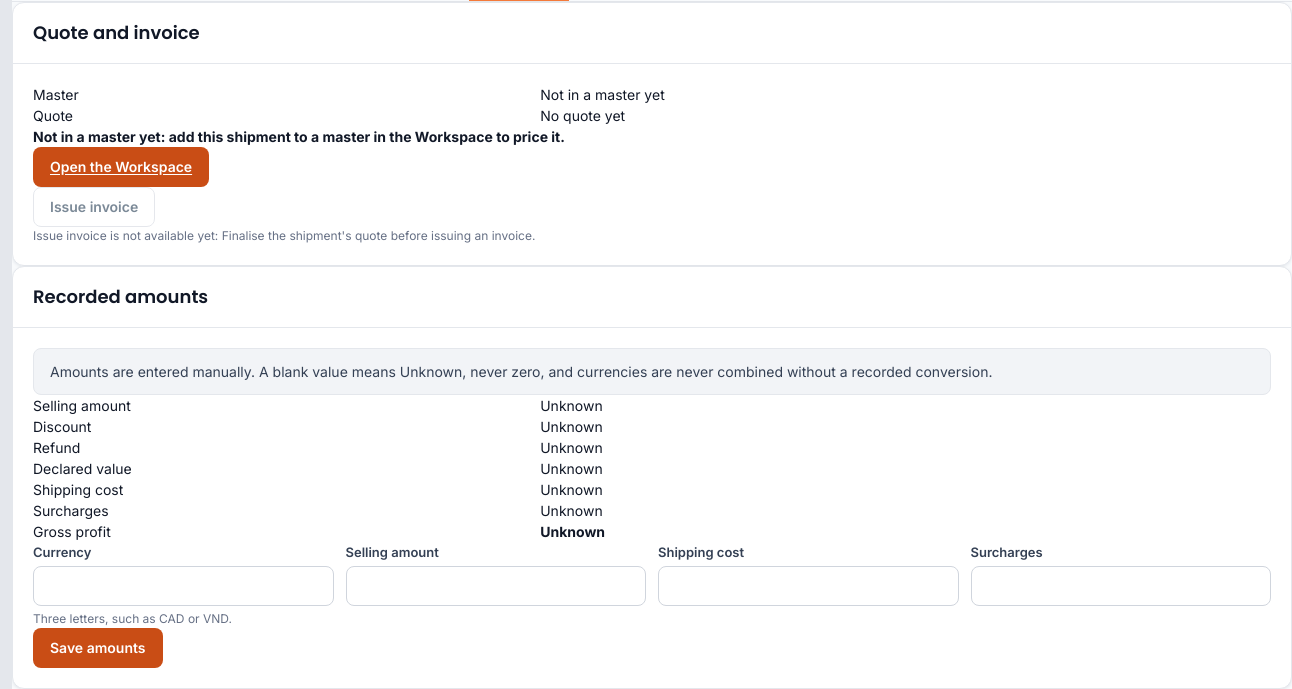
Test: the recorded currency (the root cause) › refuses a two-letter code before saving
(page scrolled)
Step 1. Type "ca" into the field labelled "Currency" → (183, 586), box x1=33 y1=566 x2=334 y2=606
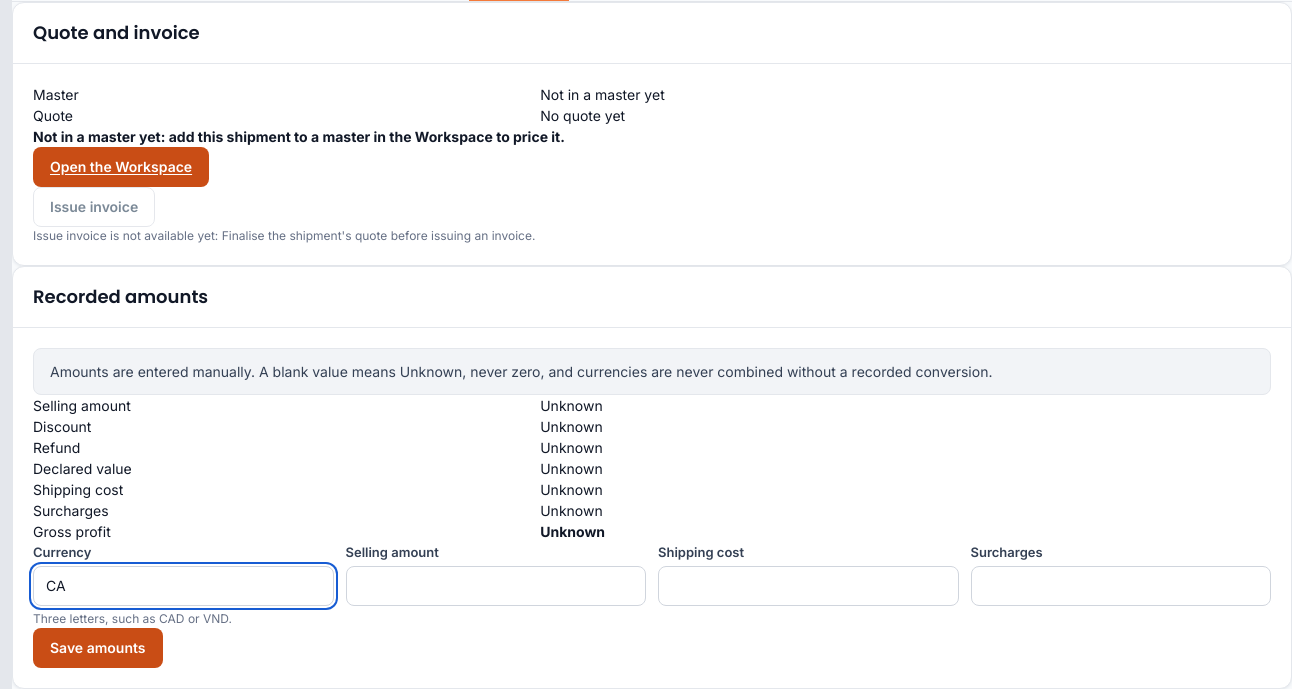
Step 2. Click the button "Save amounts" → (98, 648), box x1=33 y1=628 x2=162 y2=668
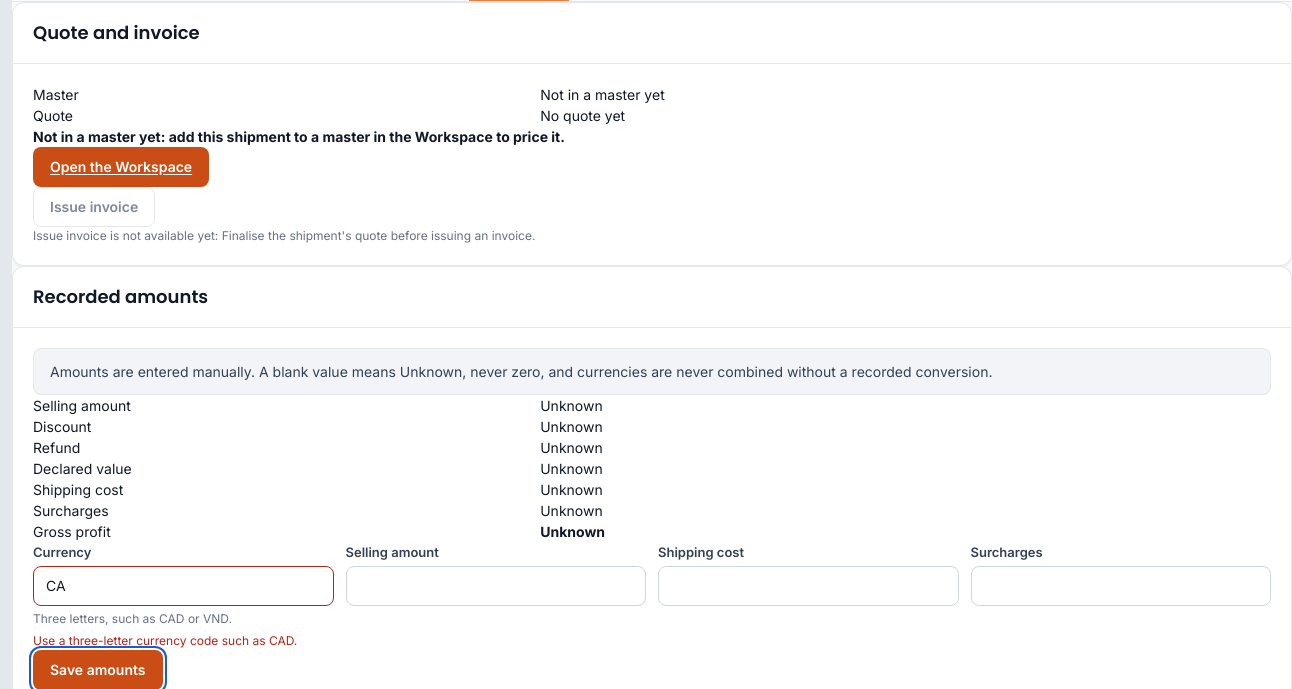
Check: the text "Use a three-letter currency code such as CAD." is shown, box x1=33 y1=632 x2=334 y2=650
